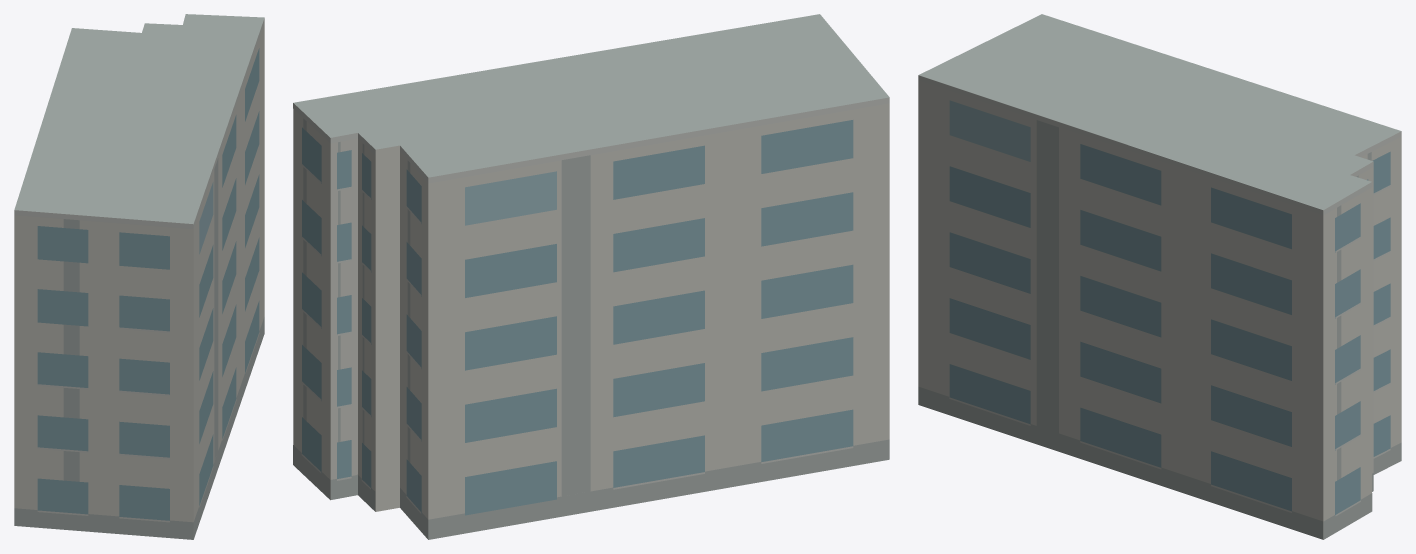
The model's file is survey-upis-32890330.glb.
3 renders of one model, left to right at view 1: azimuth 30°, elevation 25°; view 2: azimuth 150°, elevation 25°; view 3: azimuth 270°, elevation 25°, orthographic. The views are drawn at different scales.
Parts seen in each view (by area): view 1: survey-upis-32890330.tmp; view 2: survey-upis-32890330.tmp; view 3: survey-upis-32890330.tmp.
Boxes of the visible parts, box(x1,y1,x2,y2) form: survey-upis-32890330.tmp: box(14, 14, 264, 539); survey-upis-32890330.tmp: box(293, 14, 889, 539); survey-upis-32890330.tmp: box(918, 14, 1401, 539).
Size of the model in its own units: 19.54 by 15.3 by 20.34.
